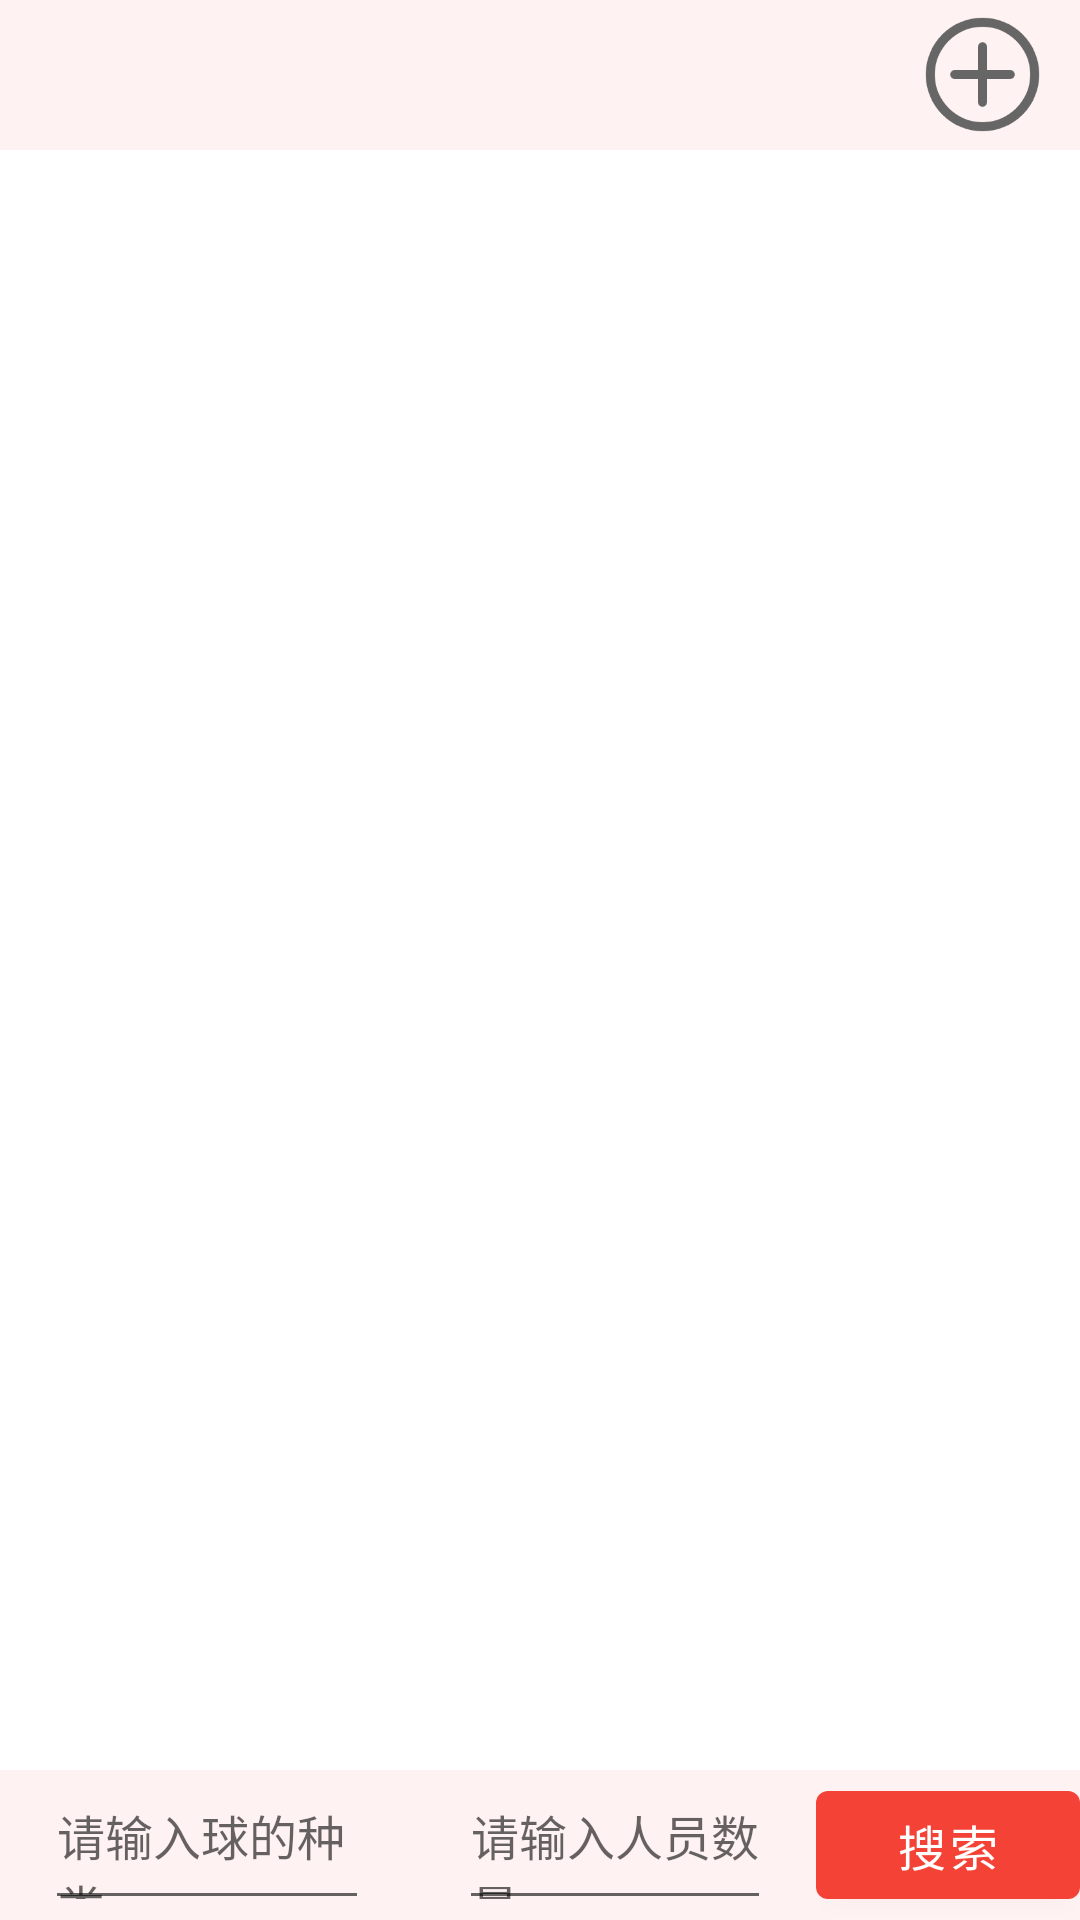

Icons on this 1080 × 1920 Android screen, each with its box as (x1, y1, x2, y2):
add: (926, 18, 1039, 131)
